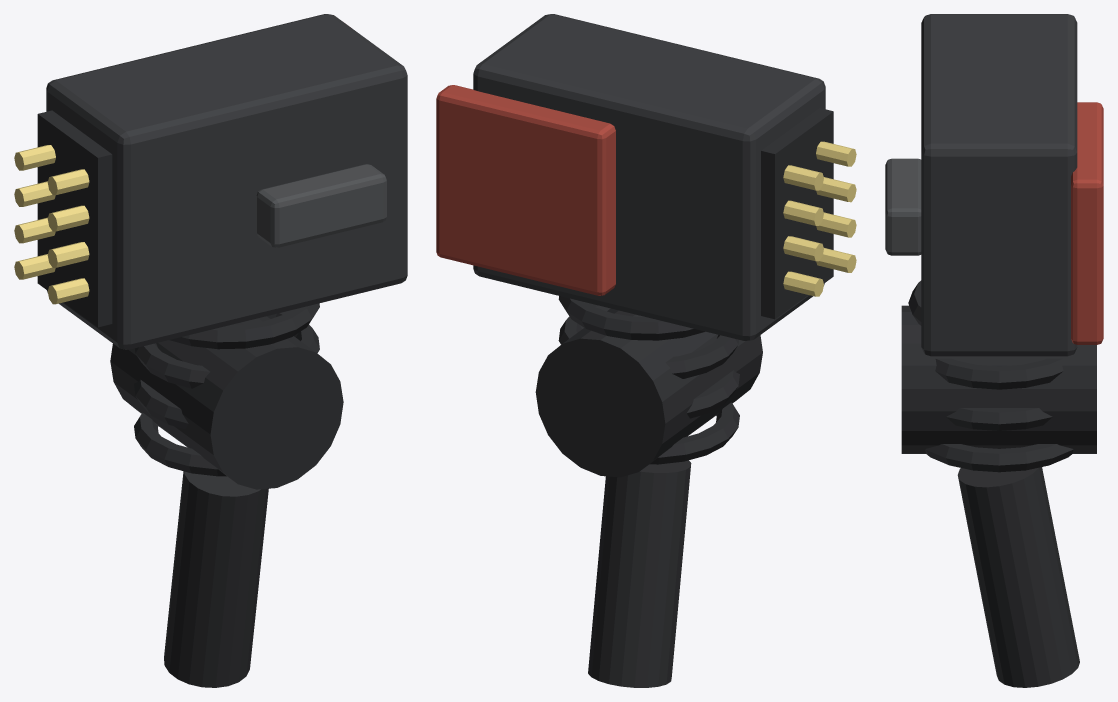
Rendered from CONN.glb.
3 views of the same model, side by side, from view 1: azimuth 30°, elevation 25°; view 2: azimuth 150°, elevation 25°; view 3: azimuth 270°, elevation 25° (orthographic). The views are drawn at different scales.
Parts seen in each view (by area): view 1: CONN_shell, CONN_sleeve, CONN_wire, CONN_facerecess, CONN_latch, CONN_corr0, CONN_corr3, CONN_corr1, CONN_corr2, CONN_pin6, CONN_pin4, CONN_pin5 (+5 smaller); view 2: CONN_shell, CONN_locktab, CONN_sleeve, CONN_wire, CONN_facerecess, CONN_corr0, CONN_corr1, CONN_corr3, CONN_corr2, CONN_pin2, CONN_pin3, CONN_pin7 (+5 smaller); view 3: CONN_shell, CONN_wire, CONN_sleeve, CONN_locktab, CONN_latch, CONN_corr3, CONN_corr1, CONN_corr2, CONN_corr0.
Part boxes in pixels (x1,y1,x2,y2): CONN_shell: (46,14,407,349); CONN_sleeve: (110,316,343,489); CONN_wire: (164,471,268,687); CONN_facerecess: (37,110,112,327); CONN_latch: (256,164,386,247); CONN_corr0: (169,303,319,349); CONN_corr3: (134,412,226,476); CONN_corr1: (135,311,319,388); CONN_corr2: (134,379,188,428); CONN_pin6: (47,205,89,231); CONN_pin4: (47,278,89,304); CONN_pin5: (47,242,89,267); CONN_shell: (473,14,825,340); CONN_locktab: (436,85,615,295); CONN_sleeve: (535,308,762,477); CONN_wire: (588,460,691,687); CONN_facerecess: (761,108,833,319); CONN_corr0: (558,296,704,340); CONN_corr1: (558,303,738,378); CONN_corr3: (650,402,739,464); CONN_corr2: (686,370,739,418); CONN_pin2: (783,200,823,225); CONN_pin3: (783,165,823,190); CONN_pin7: (816,141,856,166); CONN_shell: (921,14,1077,356); CONN_wire: (957,467,1079,687); CONN_sleeve: (901,305,1096,453); CONN_locktab: (1071,102,1103,344); CONN_latch: (885,158,921,255); CONN_corr3: (925,444,1073,472); CONN_corr1: (935,358,1063,389); CONN_corr2: (946,408,1052,430); CONN_corr0: (908,280,921,325).
Bounding box in the file's own units: 0.062 × 0.1011 × 0.0335.
